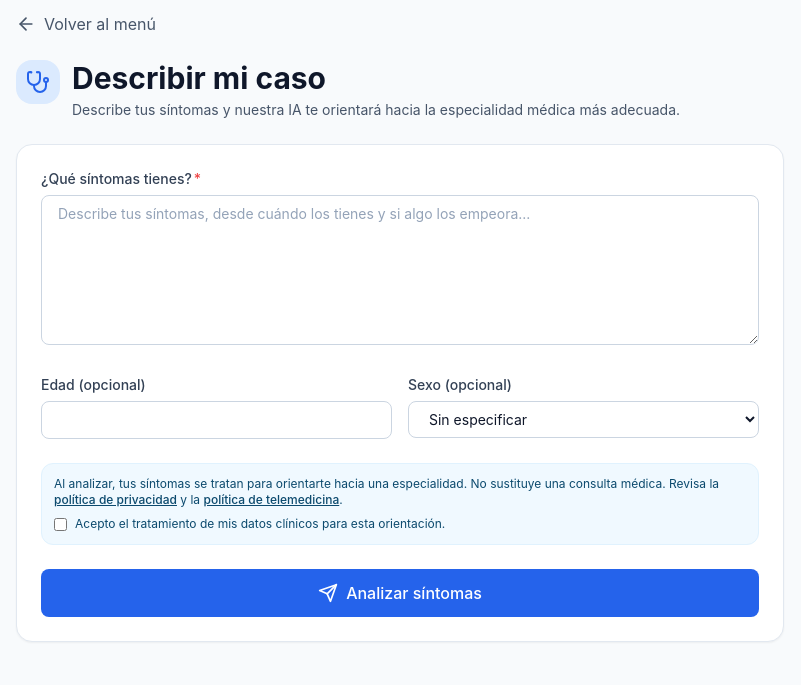
Test: Triage › exige una descripción con longitud mínima
In the text box labelled "¿Qué síntomas tienes?*": (400, 270) [41,195,759,345], type "dolor"
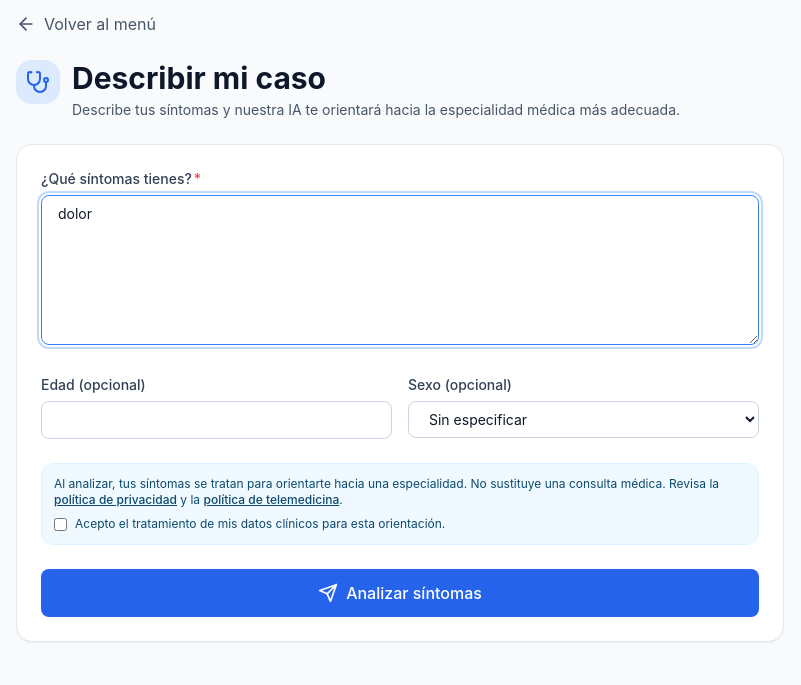
Click the button "Analizar síntomas": (400, 593) [41,569,759,617]
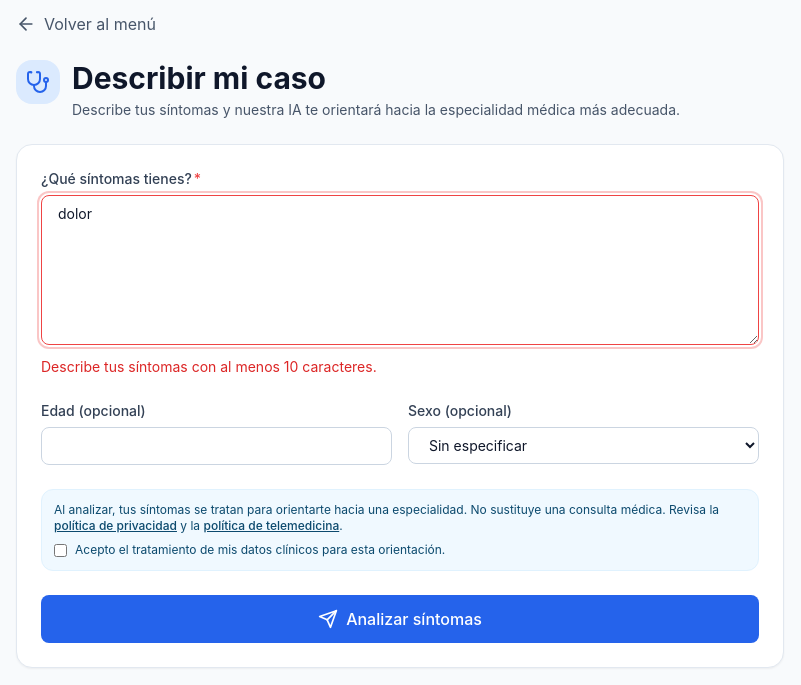
Now the text "Describe tus síntomas con al menos 10 caracteres." is shown, box [41,358,377,375]
